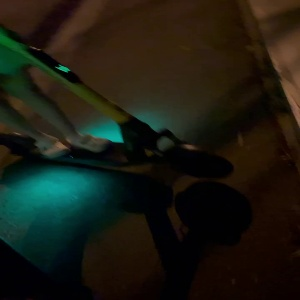human on a scooter: (1, 1, 253, 235)
